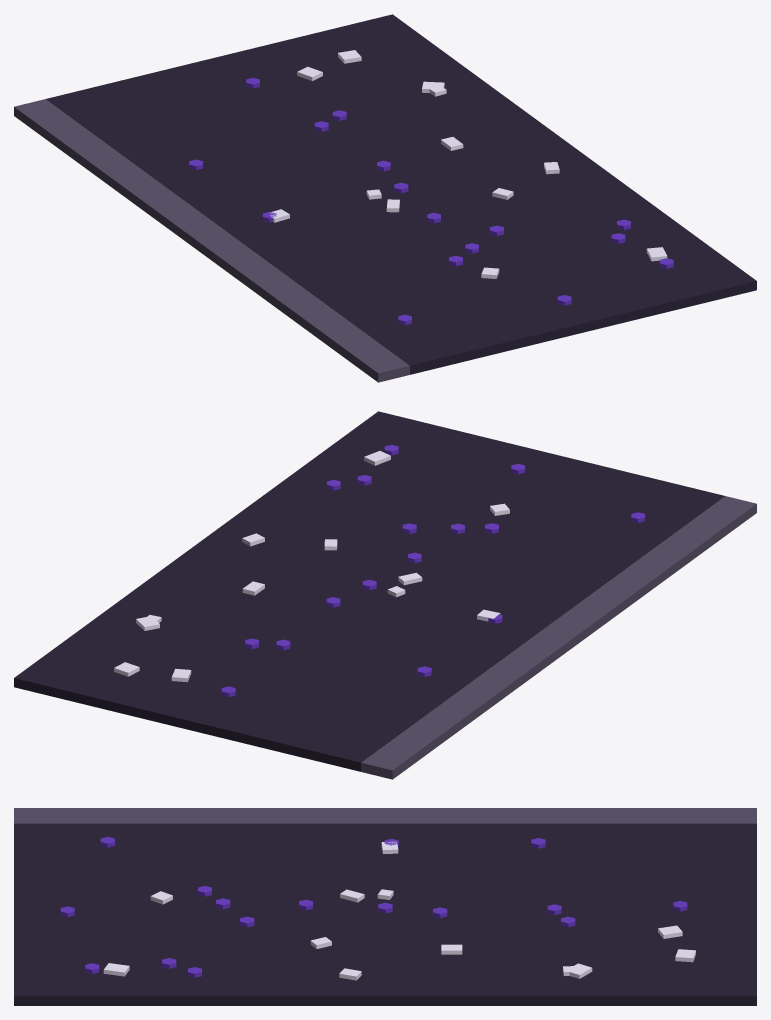
File: env_r16_verge.glb
The picture shows the model from 3 angles, top to bottom: view 1: azimuth 30°, elevation 25°; view 2: azimuth 150°, elevation 25°; view 3: azimuth 270°, elevation 25°; orthographic projection.
Visible parts, largest first — view 1: env_r16_verge; view 2: env_r16_verge; view 3: env_r16_verge.
Part boxes in pixels (x1,y1,x2,y2): env_r16_verge: (14,14,756,382); env_r16_verge: (14,411,756,779); env_r16_verge: (14,808,756,1005).
Size of the model in its own units: 6 by 0.2 by 10.
1 material, 1 textured.
